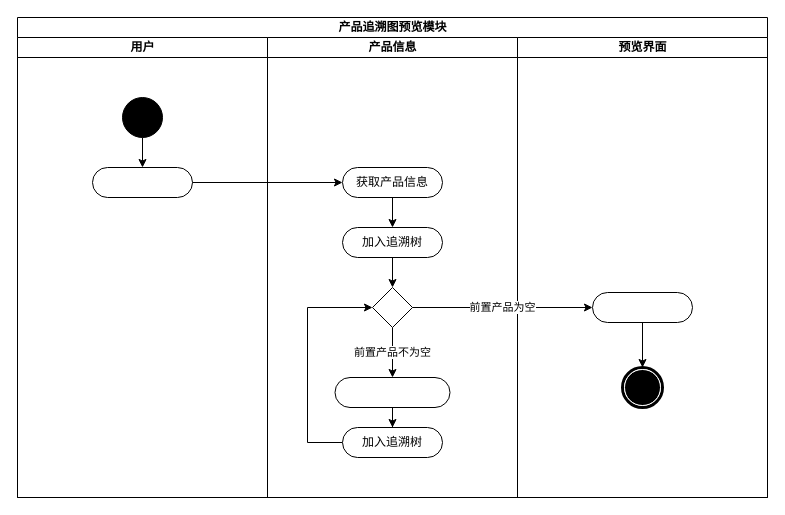
Image size: 785x515. Some labels were removed from this diagram. The centre of each missing label's shape, as x and y in pixels:
"渲染追溯树" belongs at pixel 642 307.
"获取前置产品信息" belongs at pixel 392 392.
"选择产品" belongs at pixel 142 182.
